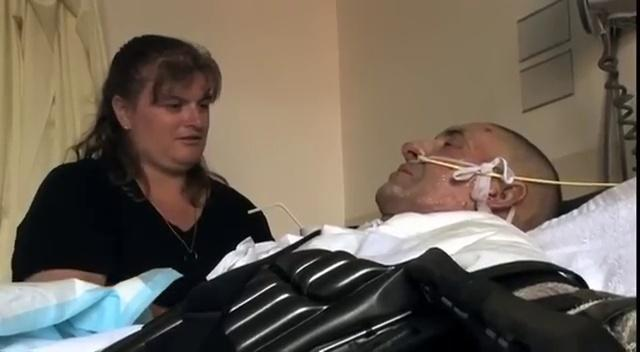others: (10, 32, 277, 320)
patient: (159, 119, 633, 350)
